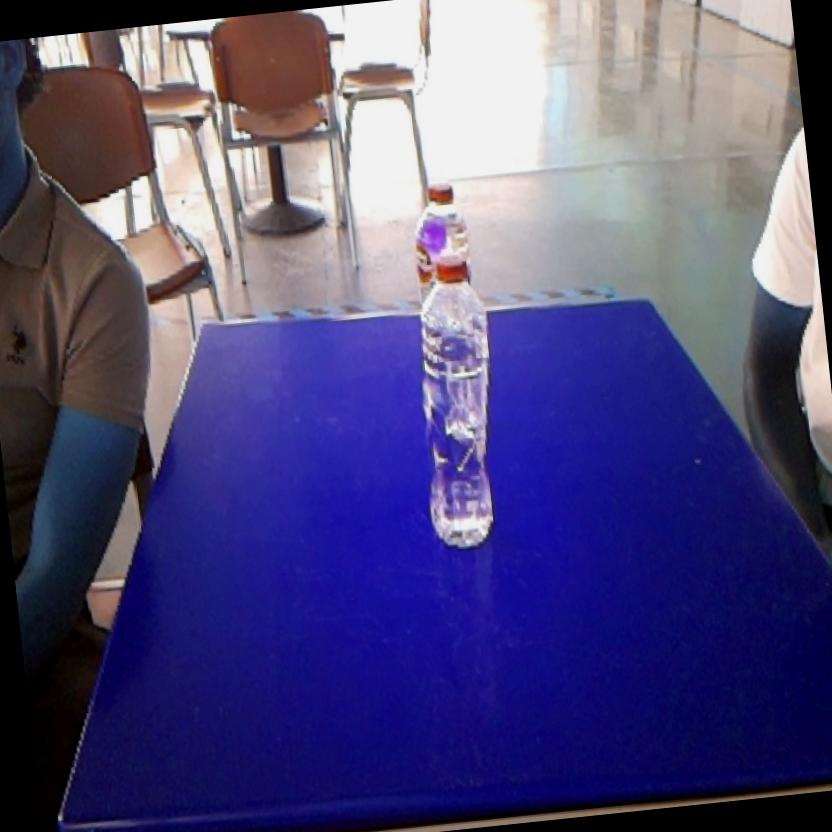good: (405, 176, 482, 262)
no_label: (398, 246, 518, 557)
